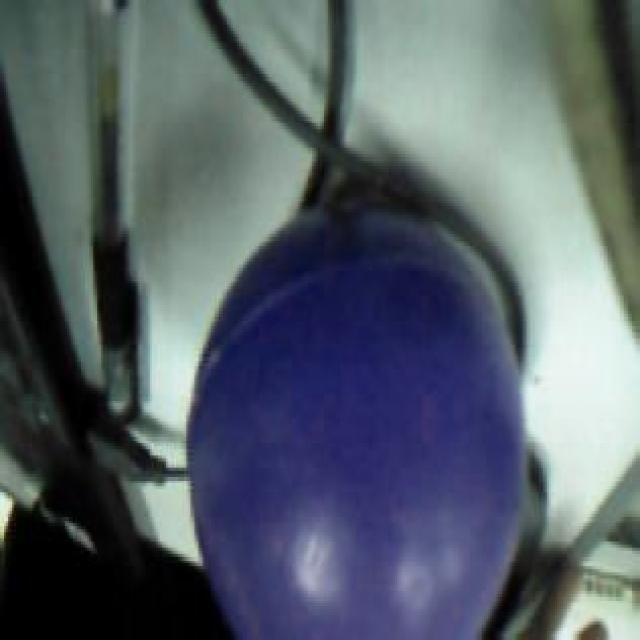BallPurple: (188, 211, 525, 640)
